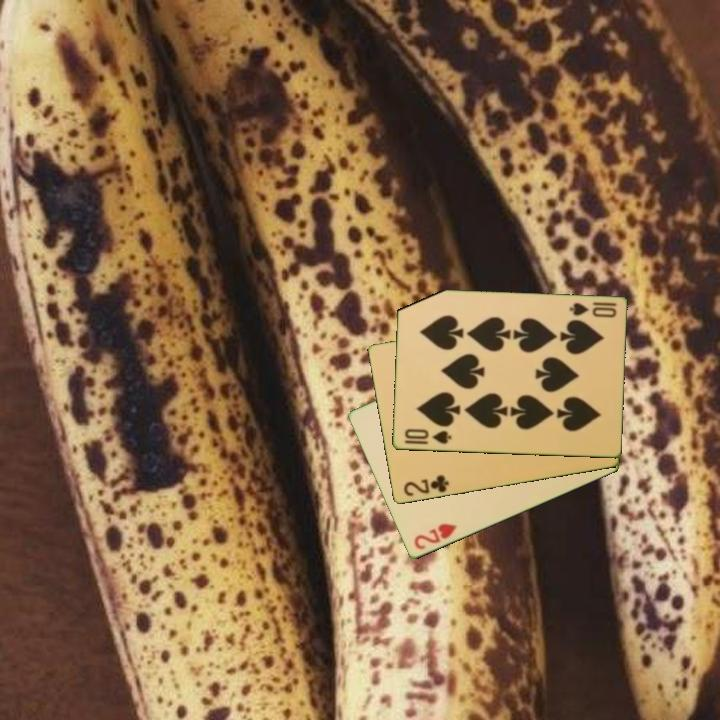10s: (401, 425, 454, 447), (566, 299, 619, 321)
2c: (400, 472, 452, 499)
2h: (410, 520, 459, 553)
